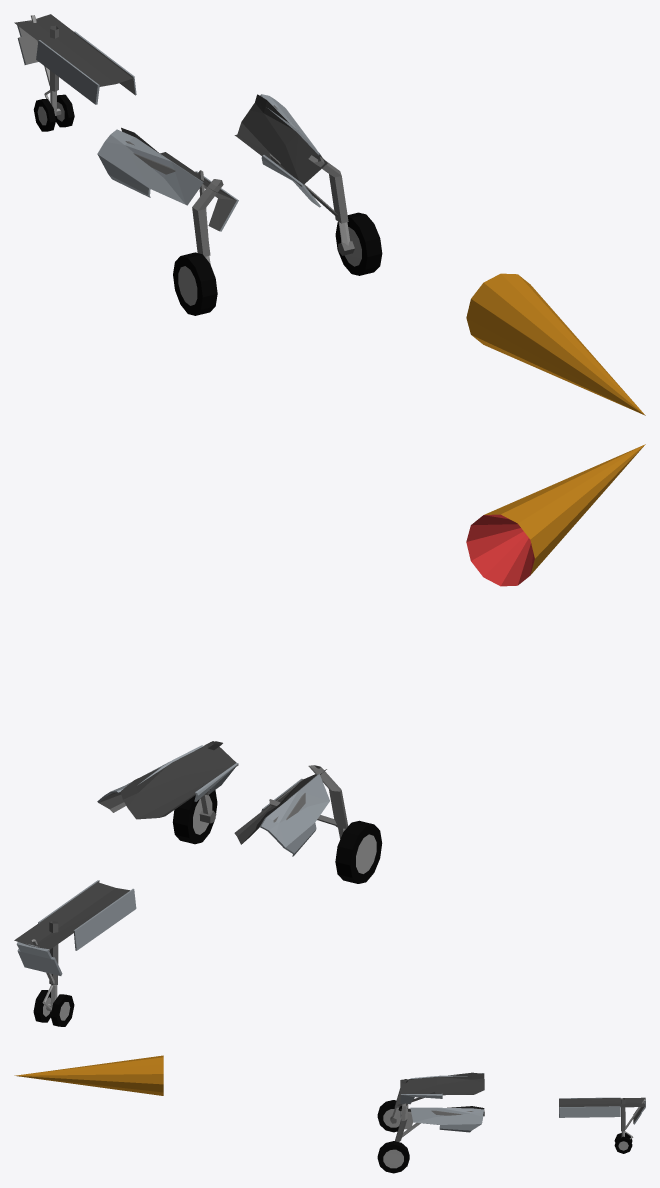
File: Gear_JAS39NG.obj
3 views of the same model, one above another, from view 1: azimuth 30°, elevation 25°; view 2: azimuth 150°, elevation 25°; view 3: azimuth 270°, elevation 25° (orthographic). The views are drawn at different scales.
Parts seen in each view (by area): view 1: ShapeIndexedFaceSet.119_ShapeIndexedFaceSet, ShapeIndexedFaceSet.058_ShapeIndexedFaceSet.059, ShapeIndexedFaceSet.057_ShapeIndexedFaceSet.058, ShapeIndexedFaceSet.066_ShapeIndexedFaceSet.067, ShapeIndexedFaceSet.051_ShapeIndexedFaceSet.052, ShapeIndexedFaceSet.054_ShapeIndexedFaceSet.055, ShapeIndexedFaceSet.070_ShapeIndexedFaceSet.071, ShapeIndexedFaceSet.053_ShapeIndexedFaceSet.054, ShapeIndexedFaceSet.050_ShapeIndexedFaceSet.051, ShapeIndexedFaceSet.075_ShapeIndexedFaceSet.076, ShapeIndexedFaceSet.063_ShapeIndexedFaceSet.064, ShapeIndexedFaceSet.052_ShapeIndexedFaceSet.053 (+1 smaller); view 2: ShapeIndexedFaceSet.119_ShapeIndexedFaceSet, ShapeIndexedFaceSet.057_ShapeIndexedFaceSet.058, ShapeIndexedFaceSet.017_ShapeIndexedFaceSet.018, ShapeIndexedFaceSet.058_ShapeIndexedFaceSet.059, ShapeIndexedFaceSet.066_ShapeIndexedFaceSet.067, ShapeIndexedFaceSet.051_ShapeIndexedFaceSet.052, ShapeIndexedFaceSet.070_ShapeIndexedFaceSet.071, ShapeIndexedFaceSet.054_ShapeIndexedFaceSet.055, ShapeIndexedFaceSet.050_ShapeIndexedFaceSet.051, ShapeIndexedFaceSet.067_ShapeIndexedFaceSet.068, ShapeIndexedFaceSet.075_ShapeIndexedFaceSet.076; view 3: ShapeIndexedFaceSet.119_ShapeIndexedFaceSet, ShapeIndexedFaceSet.056_ShapeIndexedFaceSet.057, ShapeIndexedFaceSet.060_ShapeIndexedFaceSet.061, ShapeIndexedFaceSet.066_ShapeIndexedFaceSet.067, ShapeIndexedFaceSet.072_ShapeIndexedFaceSet.073, ShapeIndexedFaceSet.054_ShapeIndexedFaceSet.055, ShapeIndexedFaceSet.051_ShapeIndexedFaceSet.052, ShapeIndexedFaceSet.053_ShapeIndexedFaceSet.054, ShapeIndexedFaceSet.055_ShapeIndexedFaceSet.056, ShapeIndexedFaceSet.052_ShapeIndexedFaceSet.053, ShapeIndexedFaceSet.062_ShapeIndexedFaceSet.063, ShapeIndexedFaceSet.075_ShapeIndexedFaceSet.076 (+1 smaller).
Boxes of the visible parts, x1=… form: ShapeIndexedFaceSet.119_ShapeIndexedFaceSet: x1=466, y1=273, x2=645, y2=415; ShapeIndexedFaceSet.058_ShapeIndexedFaceSet.059: x1=97, y1=129, x2=203, y2=205; ShapeIndexedFaceSet.057_ShapeIndexedFaceSet.058: x1=234, y1=94, x2=327, y2=186; ShapeIndexedFaceSet.066_ShapeIndexedFaceSet.067: x1=14, y1=14, x2=132, y2=86; ShapeIndexedFaceSet.051_ShapeIndexedFaceSet.052: x1=173, y1=252, x2=217, y2=315; ShapeIndexedFaceSet.054_ShapeIndexedFaceSet.055: x1=335, y1=212, x2=382, y2=275; ShapeIndexedFaceSet.070_ShapeIndexedFaceSet.071: x1=36, y1=40, x2=99, y2=104; ShapeIndexedFaceSet.053_ShapeIndexedFaceSet.054: x1=269, y1=153, x2=354, y2=255; ShapeIndexedFaceSet.050_ShapeIndexedFaceSet.051: x1=192, y1=170, x2=223, y2=256; ShapeIndexedFaceSet.075_ShapeIndexedFaceSet.076: x1=33, y1=94, x2=74, y2=131; ShapeIndexedFaceSet.063_ShapeIndexedFaceSet.064: x1=195, y1=171, x2=236, y2=231; ShapeIndexedFaceSet.052_ShapeIndexedFaceSet.053: x1=178, y1=256, x2=210, y2=305; ShapeIndexedFaceSet.119_ShapeIndexedFaceSet: x1=484, y1=444, x2=645, y2=574; ShapeIndexedFaceSet.057_ShapeIndexedFaceSet.058: x1=120, y1=741, x2=238, y2=819; ShapeIndexedFaceSet.017_ShapeIndexedFaceSet.018: x1=466, y1=514, x2=534, y2=586; ShapeIndexedFaceSet.058_ShapeIndexedFaceSet.059: x1=260, y1=774, x2=329, y2=856; ShapeIndexedFaceSet.066_ShapeIndexedFaceSet.067: x1=14, y1=882, x2=129, y2=949; ShapeIndexedFaceSet.051_ShapeIndexedFaceSet.052: x1=335, y1=820, x2=382, y2=883; ShapeIndexedFaceSet.070_ShapeIndexedFaceSet.071: x1=73, y1=888, x2=136, y2=950; ShapeIndexedFaceSet.054_ShapeIndexedFaceSet.055: x1=172, y1=789, x2=217, y2=844; ShapeIndexedFaceSet.050_ShapeIndexedFaceSet.051: x1=269, y1=765, x2=348, y2=828; ShapeIndexedFaceSet.067_ShapeIndexedFaceSet.068: x1=16, y1=942, x2=62, y2=975; ShapeIndexedFaceSet.075_ShapeIndexedFaceSet.076: x1=33, y1=990, x2=74, y2=1026; ShapeIndexedFaceSet.119_ShapeIndexedFaceSet: x1=14, y1=1055, x2=163, y2=1095; ShapeIndexedFaceSet.056_ShapeIndexedFaceSet.057: x1=400, y1=1072, x2=484, y2=1095; ShapeIndexedFaceSet.060_ShapeIndexedFaceSet.061: x1=410, y1=1107, x2=484, y2=1132; ShapeIndexedFaceSet.066_ShapeIndexedFaceSet.067: x1=559, y1=1097, x2=645, y2=1107; ShapeIndexedFaceSet.072_ShapeIndexedFaceSet.073: x1=559, y1=1106, x2=620, y2=1117; ShapeIndexedFaceSet.054_ShapeIndexedFaceSet.055: x1=377, y1=1141, x2=409, y2=1173; ShapeIndexedFaceSet.051_ShapeIndexedFaceSet.052: x1=377, y1=1100, x2=401, y2=1132; ShapeIndexedFaceSet.053_ShapeIndexedFaceSet.054: x1=395, y1=1103, x2=420, y2=1141; ShapeIndexedFaceSet.055_ShapeIndexedFaceSet.056: x1=383, y1=1149, x2=403, y2=1168; ShapeIndexedFaceSet.052_ShapeIndexedFaceSet.053: x1=383, y1=1107, x2=400, y2=1127; ShapeIndexedFaceSet.062_ShapeIndexedFaceSet.063: x1=400, y1=1093, x2=442, y2=1104; ShapeIndexedFaceSet.075_ShapeIndexedFaceSet.076: x1=614, y1=1133, x2=632, y2=1153.
Size of the model in its own units: 24.69 by 22.83 by 139.
